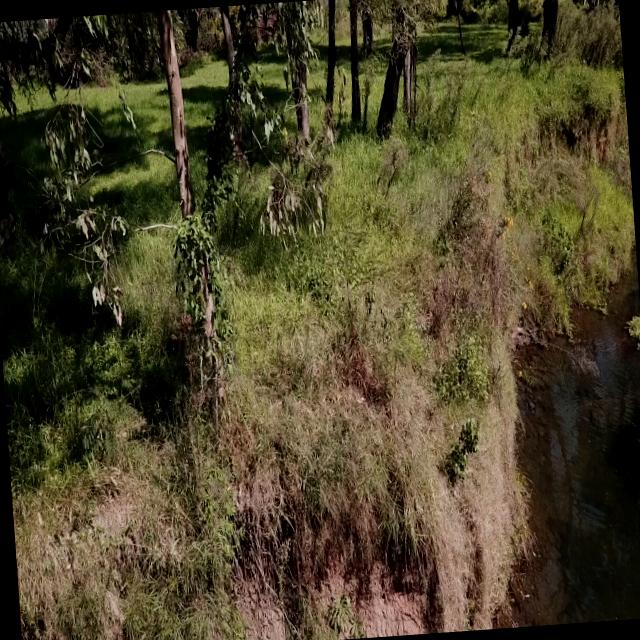Mysore-Thorn-Weed: (64, 320, 144, 472)
